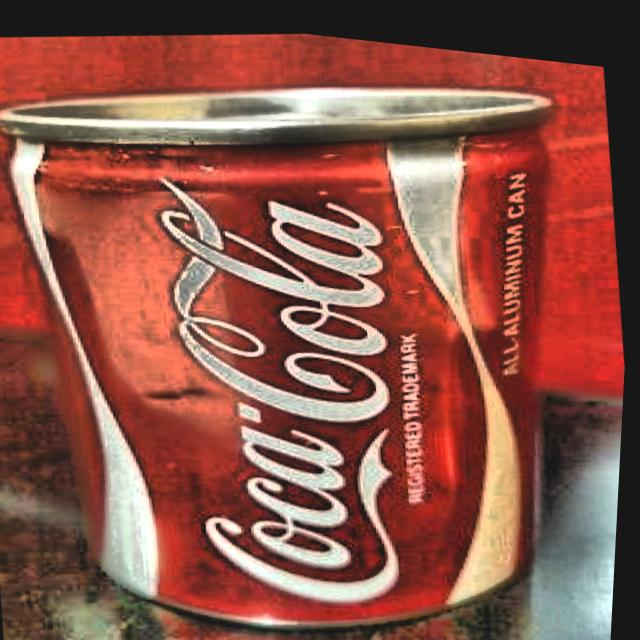Cans: (0, 0, 626, 640)
